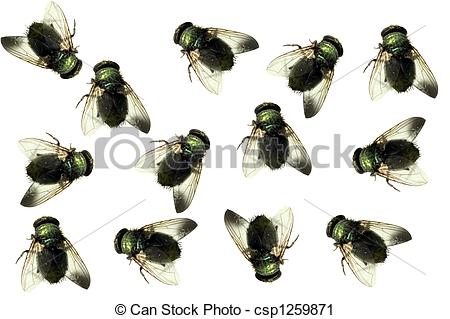house fly: (7, 130, 99, 215), (321, 212, 414, 294), (71, 50, 153, 141), (264, 31, 344, 119), (171, 19, 262, 96), (107, 216, 200, 290), (350, 114, 434, 195), (221, 203, 301, 288), (1, 1, 87, 78), (13, 214, 94, 295), (136, 128, 210, 216), (237, 99, 315, 180), (365, 20, 441, 103)
